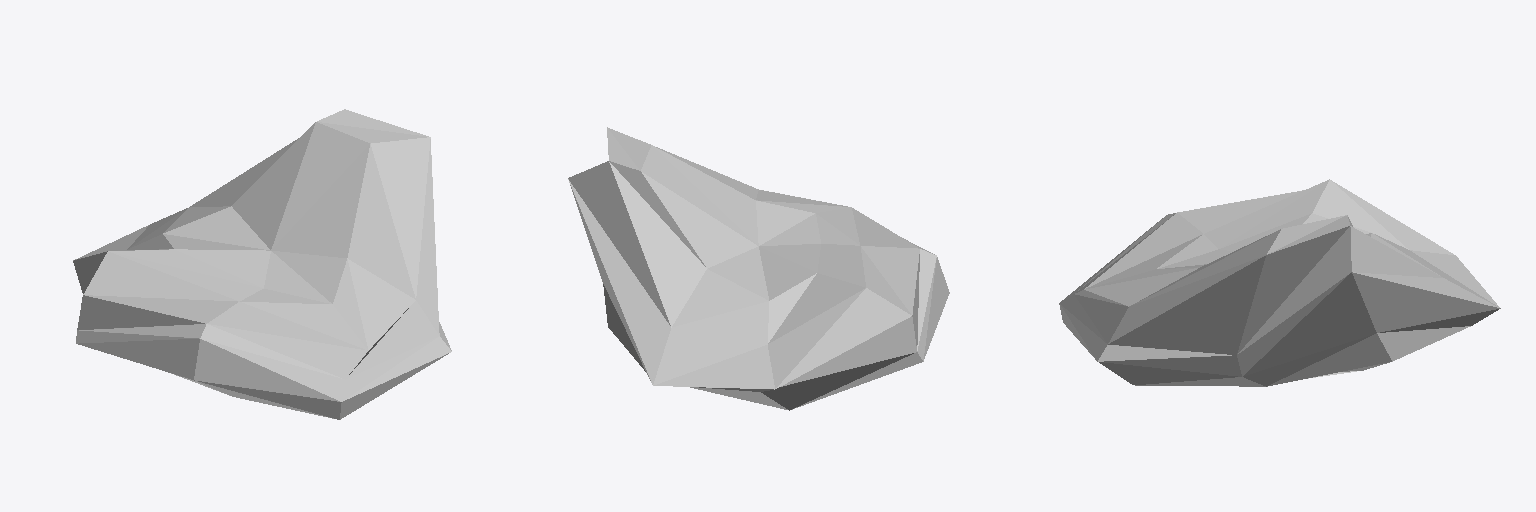
File: Rock5.obj
3 renders of one model, left to right at view 1: azimuth 30°, elevation 25°; view 2: azimuth 150°, elevation 25°; view 3: azimuth 270°, elevation 25°, orthographic.
Visible parts, largest first — view 1: pSphere1; view 2: pSphere1; view 3: pSphere1.
Boxes of the visible parts, x1,y1,x2,y2 form: pSphere1: [73, 109, 451, 419]; pSphere1: [568, 127, 949, 410]; pSphere1: [1059, 179, 1500, 386].
Size of the model in its own units: 33.11 by 17.1 by 37.72.